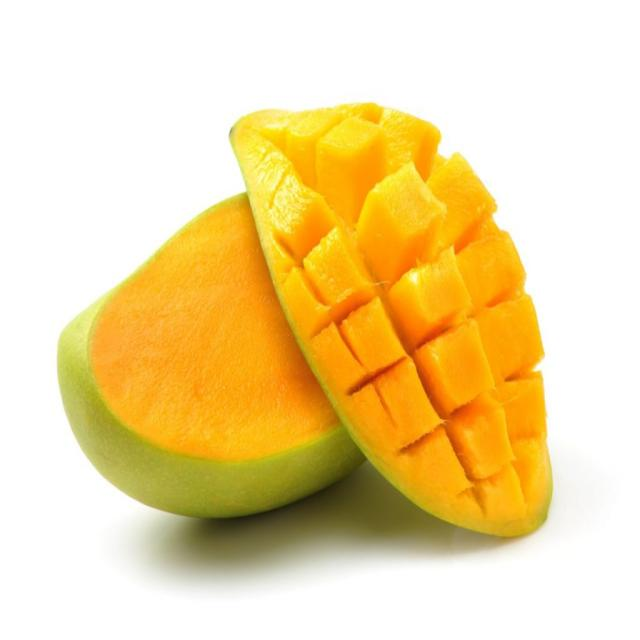fruit: (36, 46, 598, 602), (53, 68, 62, 86)
